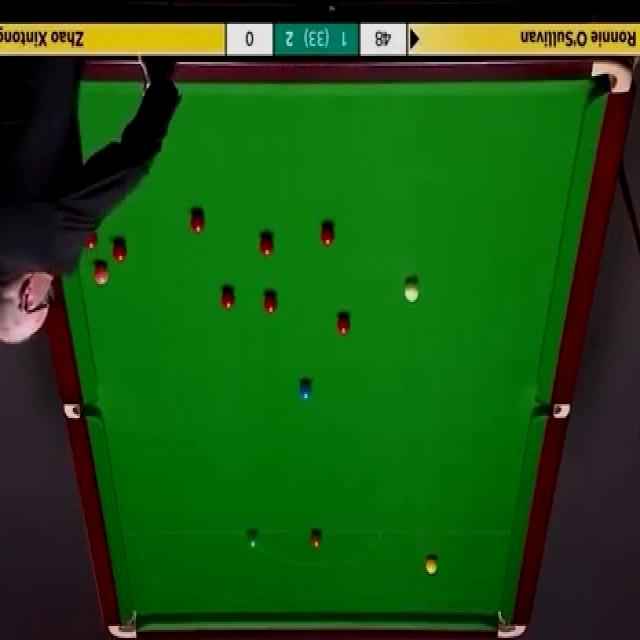blue-ball: (299, 379, 312, 401)
brown-ball: (310, 530, 322, 547)
green-ball: (247, 530, 258, 550)
pink-ball: (92, 262, 109, 287)
red-ball: (189, 210, 207, 235), (82, 227, 99, 253), (220, 288, 235, 313), (259, 233, 273, 258), (264, 291, 278, 315), (320, 227, 336, 247), (112, 241, 127, 262), (336, 316, 350, 338)
white-ball: (404, 276, 422, 304)
yellow-ball: (424, 554, 438, 574)
